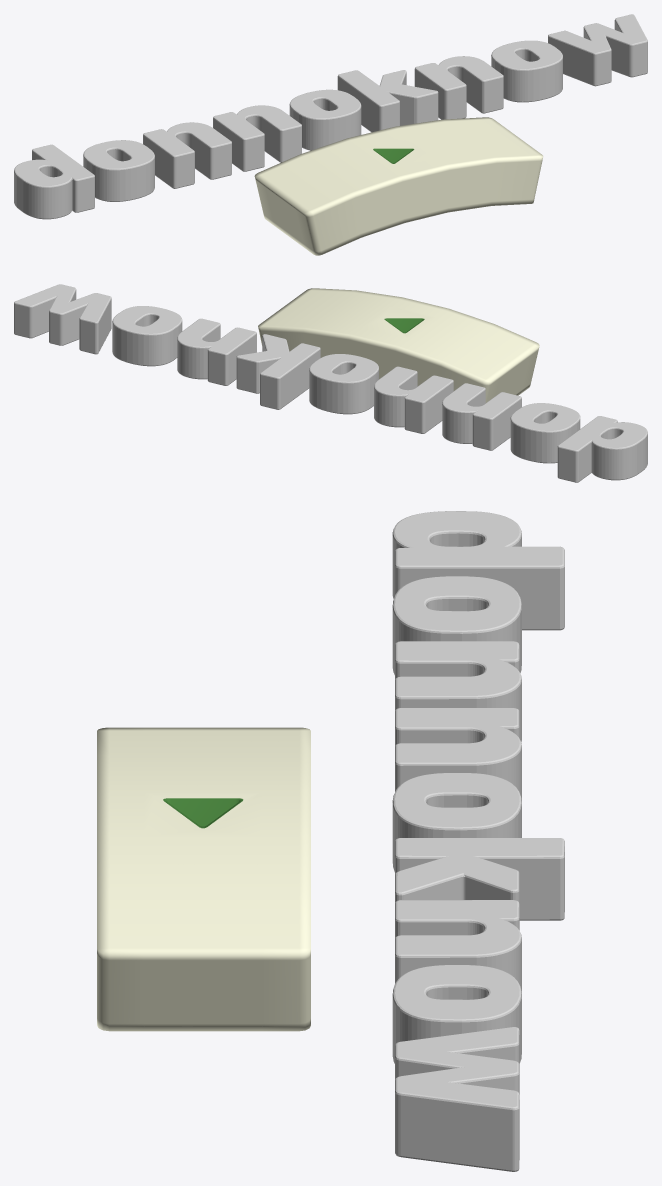
Rendered from title.glb.
3 views of the same model, one above another, from view 1: azimuth 30°, elevation 25°; view 2: azimuth 150°, elevation 25°; view 3: azimuth 270°, elevation 25° (orthographic). The views are drawn at different scales.
Visible parts, largest first — view 1: Text, playbtn; view 2: Text, playbtn; view 3: Text, playbtn.
Part boxes in pixels (left/top/right/bottom): Text: left=14, top=14, right=647, bottom=219; playbtn: left=254, top=117, right=543, bottom=255; Text: left=14, top=284, right=647, bottom=482; playbtn: left=258, top=288, right=539, bottom=402; Text: left=392, top=511, right=564, bottom=1171; playbtn: left=97, top=727, right=310, bottom=1031.
Size of the model in its own units: 3.63 by 0.336 by 1.2.
Materials: 1 (1 with a texture image).
